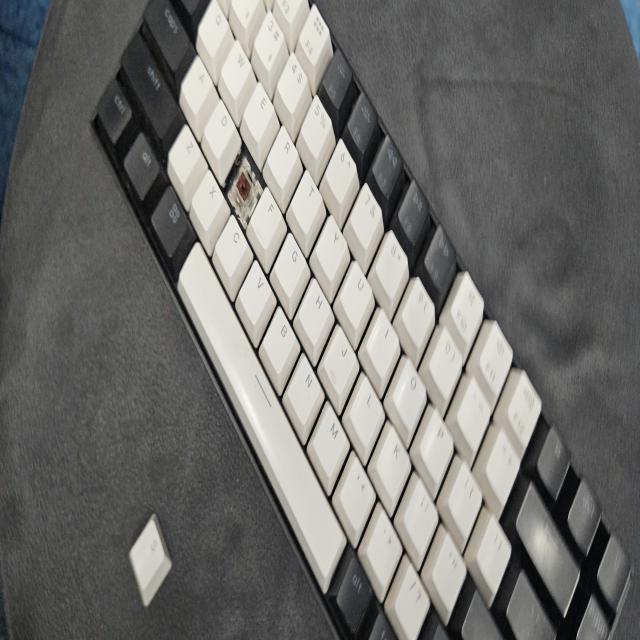C: (236, 166, 252, 207)
